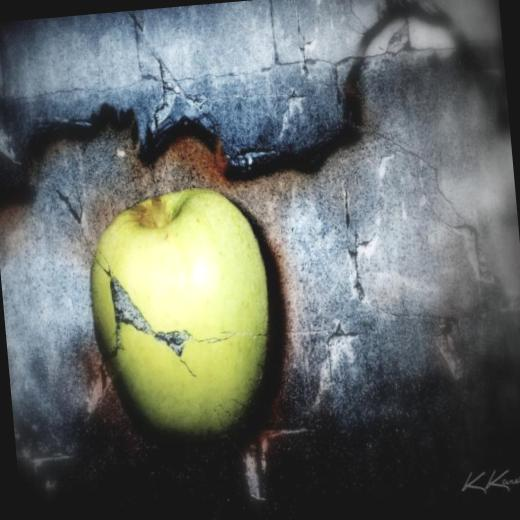Apple: (79, 192, 290, 458)
